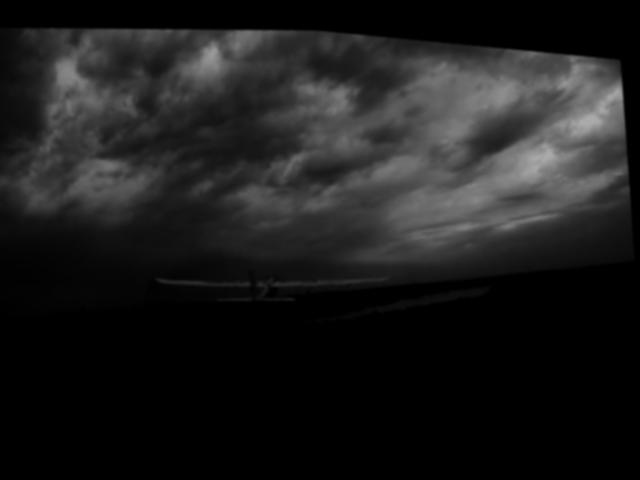hedef: (140, 244, 403, 333)
